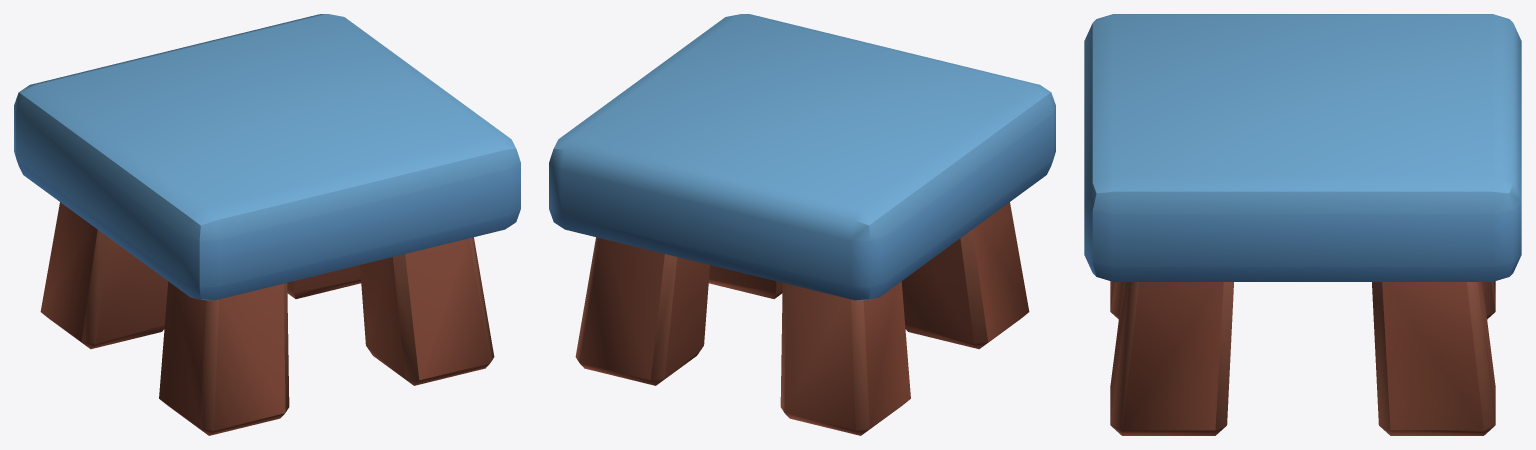
Rendered from kay-banqueta.gltf.
3 views of the same model, side by side, from view 1: azimuth 30°, elevation 25°; view 2: azimuth 150°, elevation 25°; view 3: azimuth 270°, elevation 25° (orthographic). The views are drawn at different scales.
Parts seen in each view (by area): view 1: chair_stool; view 2: chair_stool; view 3: chair_stool.
Part boxes in pixels (box(x1,y1,x2,y2)): chair_stool: box(14, 14, 520, 435); chair_stool: box(549, 14, 1055, 435); chair_stool: box(1084, 14, 1521, 435).
Size of the model in its own units: 0.4875 by 0.325 by 0.4875.
Materials: 1 (1 with a texture image).
